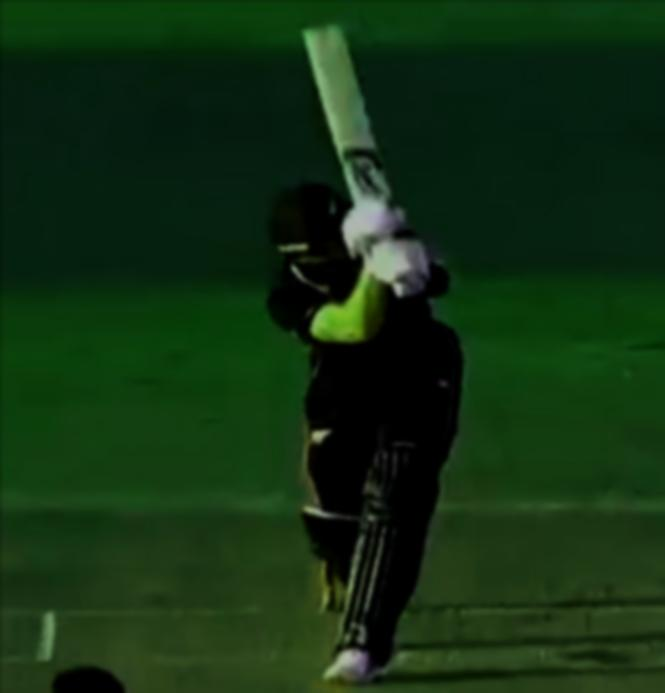batsman: (202, 27, 489, 693)
